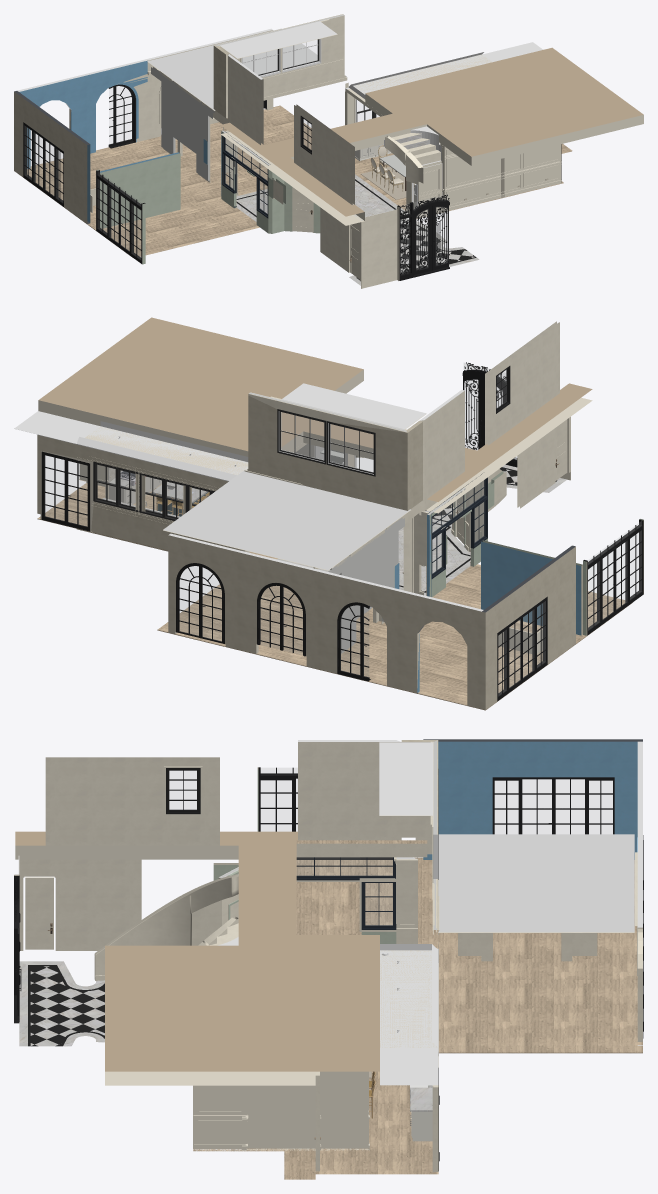
The model's file is kitchen-a55082147b47.glb.
The picture shows the model from 3 angles, top to bottom: view 1: azimuth 30°, elevation 25°; view 2: azimuth 150°, elevation 25°; view 3: azimuth 270°, elevation 25°; orthographic projection. The views are drawn at different scales.
Parts seen in each view (by area): view 1: kitchen-look-2575515a05775d9e, kitchen-look-3b0077416469e01b, kitchen-look-969b861f9850351e, kitchen-19647d6da46c2b80, kitchen-look-b19b106fc304963c, kitchen-look-039192b0560cfac3, kitchen-look-4a969f5cc1ae3dfe, kitchen-look-746250f96522f643, kitchen-look-55ff1dfd7b659ec1, kitchen-look-245f595ae2832e16, kitchen-look-d5a4a1b5d3594c04, kitchen-look-7f59123d155b94ce (+38 smaller); view 2: kitchen-look-2575515a05775d9e, kitchen-look-969b861f9850351e, kitchen-look-3b0077416469e01b, kitchen-look-4a969f5cc1ae3dfe, kitchen-look-245f595ae2832e16, kitchen-look-039192b0560cfac3, kitchen-look-746250f96522f643, kitchen-bfb9fa537cd11d1d, kitchen-49bdd6945a2d0056, kitchen-look-7f59123d155b94ce, kitchen-look-b19b106fc304963c, kitchen-look-55ff1dfd7b659ec1 (+40 smaller); view 3: kitchen-look-2575515a05775d9e, kitchen-look-3b0077416469e01b, kitchen-look-4a969f5cc1ae3dfe, kitchen-look-746250f96522f643, kitchen-look-039192b0560cfac3, kitchen-look-7f59123d155b94ce, kitchen-look-85f0fd939e0fcc78, kitchen-9a0e9ee9b2a451d7, kitchen-look-e388ad8855329420, kitchen-5b6bbac285e58726, kitchen-look-9d91b47435c6fb33, kitchen-49bdd6945a2d0056 (+29 smaller).
Boxes of the visible parts, bbox=[...] form: kitchen-look-2575515a05775d9e: bbox=[221, 47, 643, 225]; kitchen-look-3b0077416469e01b: bbox=[14, 105, 572, 257]; kitchen-look-969b861f9850351e: bbox=[17, 28, 273, 168]; kitchen-19647d6da46c2b80: bbox=[444, 144, 560, 207]; kitchen-look-b19b106fc304963c: bbox=[100, 152, 180, 228]; kitchen-look-039192b0560cfac3: bbox=[14, 91, 90, 223]; kitchen-look-4a969f5cc1ae3dfe: bbox=[147, 28, 346, 110]; kitchen-look-746250f96522f643: bbox=[294, 104, 354, 205]; kitchen-look-55ff1dfd7b659ec1: bbox=[151, 67, 214, 180]; kitchen-look-245f595ae2832e16: bbox=[213, 14, 344, 108]; kitchen-look-d5a4a1b5d3594c04: bbox=[361, 209, 397, 288]; kitchen-look-7f59123d155b94ce: bbox=[228, 54, 263, 144]; kitchen-look-2575515a05775d9e: bbox=[38, 317, 592, 513]; kitchen-look-969b861f9850351e: bbox=[168, 533, 483, 708]; kitchen-look-3b0077416469e01b: bbox=[37, 479, 632, 710]; kitchen-look-4a969f5cc1ae3dfe: bbox=[163, 471, 410, 570]; kitchen-look-245f595ae2832e16: bbox=[248, 392, 407, 510]; kitchen-look-039192b0560cfac3: bbox=[481, 545, 575, 709]; kitchen-look-746250f96522f643: bbox=[485, 321, 559, 445]; kitchen-bfb9fa537cd11d1d: bbox=[76, 444, 247, 551]; kitchen-49bdd6945a2d0056: bbox=[76, 421, 248, 480]; kitchen-look-7f59123d155b94ce: bbox=[419, 390, 464, 511]; kitchen-look-b19b106fc304963c: bbox=[481, 540, 582, 635]; kitchen-look-55ff1dfd7b659ec1: bbox=[328, 517, 404, 653]; kitchen-look-2575515a05775d9e: bbox=[15, 831, 379, 1085]; kitchen-look-3b0077416469e01b: bbox=[284, 857, 642, 1179]; kitchen-look-4a969f5cc1ae3dfe: bbox=[438, 834, 634, 932]; kitchen-look-746250f96522f643: bbox=[45, 757, 219, 845]; kitchen-look-039192b0560cfac3: bbox=[423, 739, 642, 859]; kitchen-look-7f59123d155b94ce: bbox=[298, 740, 401, 840]; kitchen-look-85f0fd939e0fcc78: bbox=[19, 859, 141, 950]; kitchen-9a0e9ee9b2a451d7: bbox=[380, 950, 438, 1047]; kitchen-look-e388ad8855329420: bbox=[30, 966, 104, 1046]; kitchen-5b6bbac285e58726: bbox=[247, 1085, 315, 1150]; kitchen-look-9d91b47435c6fb33: bbox=[379, 742, 432, 815]; kitchen-49bdd6945a2d0056: bbox=[380, 944, 438, 1047].
Bounding box in the file's own units: 20.84 × 6.36 × 16.8.
Materials: 72 (15 with a texture image).
